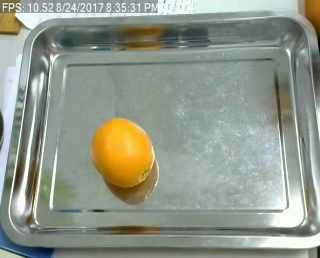Orange: (91, 117, 155, 187)
